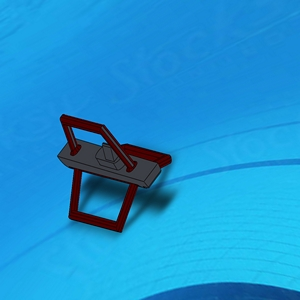submarine: (57, 114, 176, 233)
